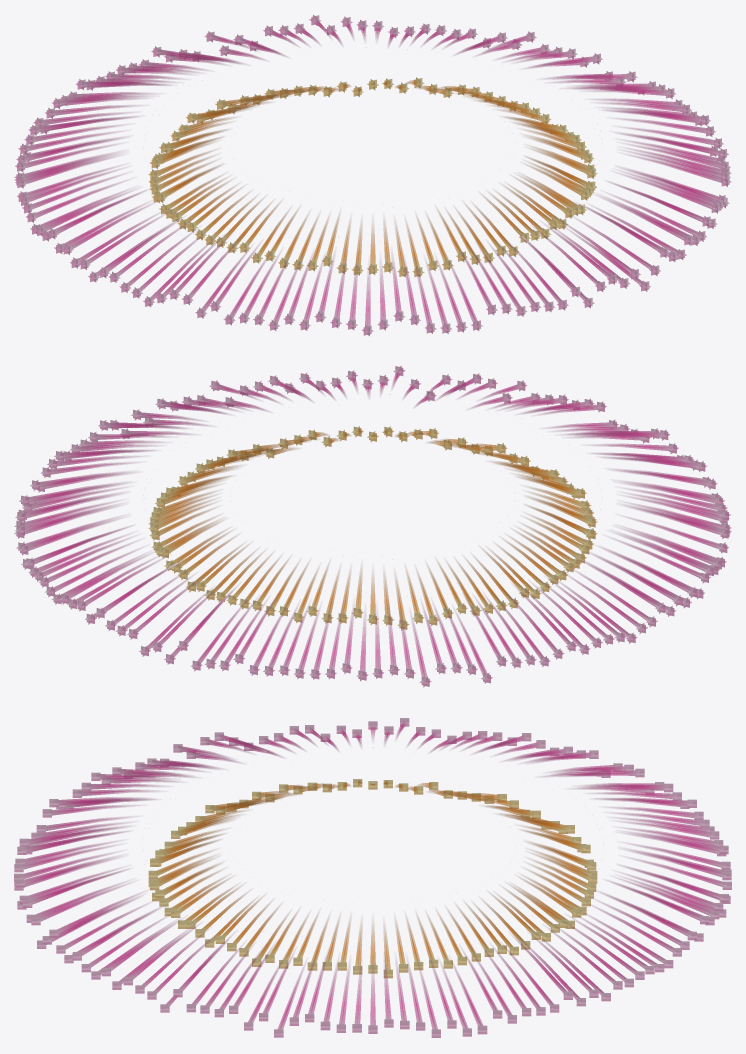
File: fw_ring_pink_gold_b.glb
3 renders of one model, top to bottom at view 1: azimuth 30°, elevation 25°; view 2: azimuth 150°, elevation 25°; view 3: azimuth 270°, elevation 25°, orthographic.
Parts seen in each view (by area): view 1: spire; view 2: spire; view 3: spire.
Part boxes in pixels (x1,y1,x2,y2): spire: (14,15,731,336); spire: (14,365,731,687); spire: (14,718,731,1037).
Bounding box in the file's own units: 21.48 × 1.9 × 21.48.
2 materials, 2 textured.
